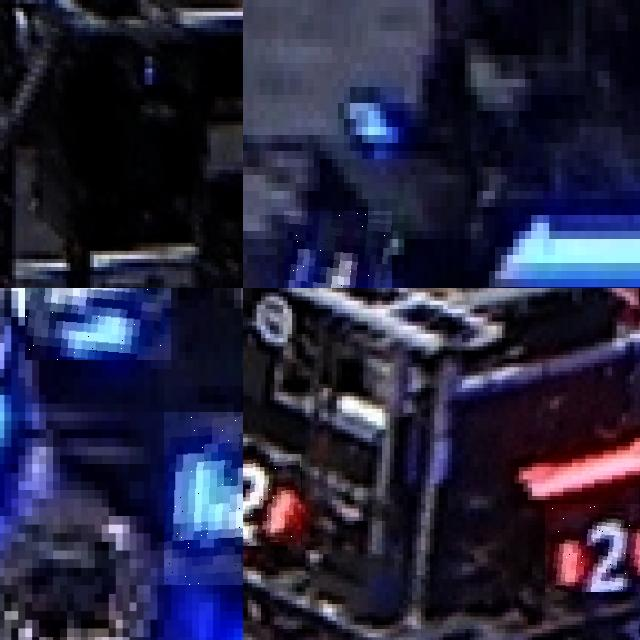B4: (164, 412, 243, 585), (25, 288, 171, 360), (283, 211, 392, 288)
R2: (545, 504, 640, 591), (243, 454, 300, 545)
